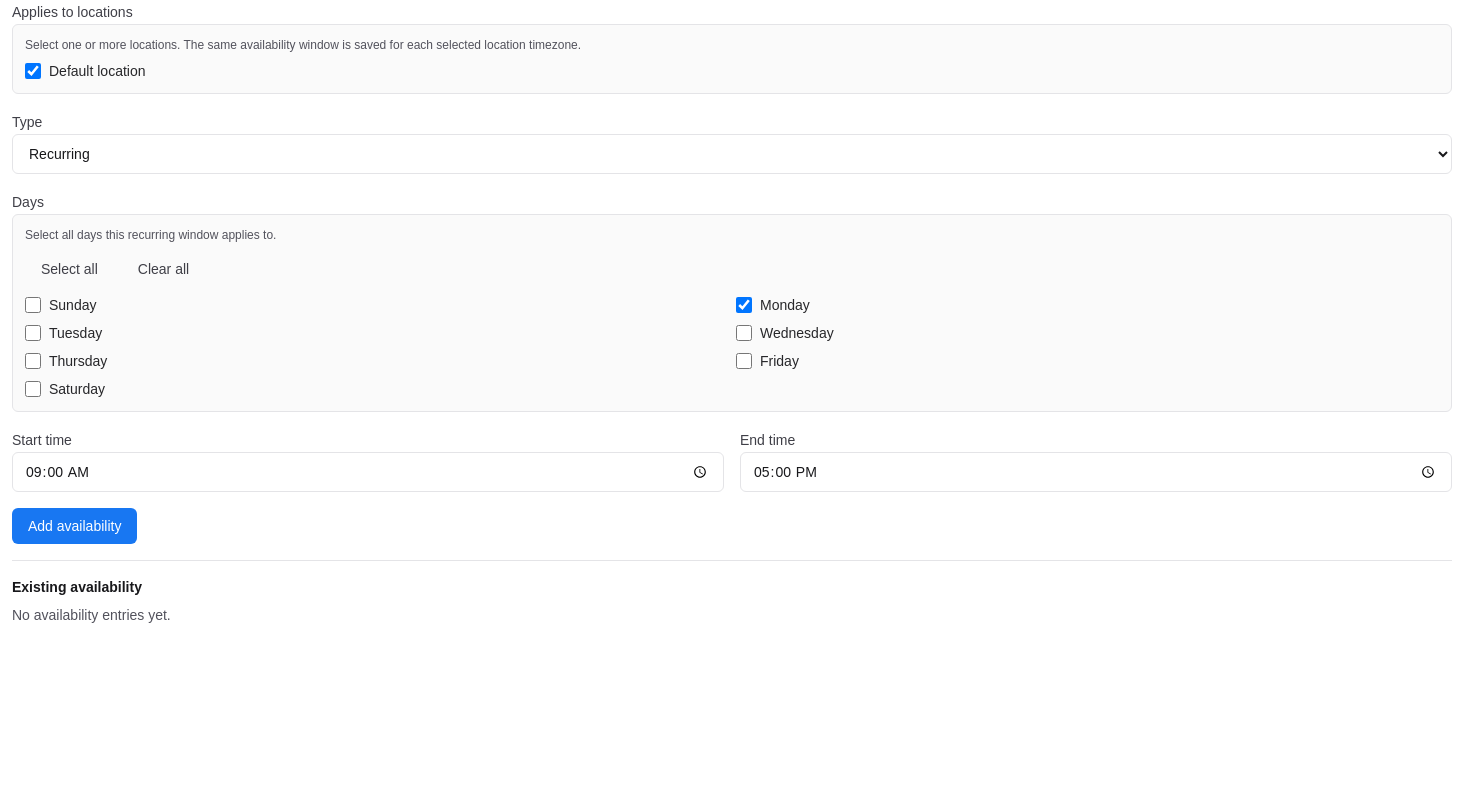
it: AvailabilityForm › shows error message when submit fails
Click the button "Add availability": (75, 526) [12,508,137,544]
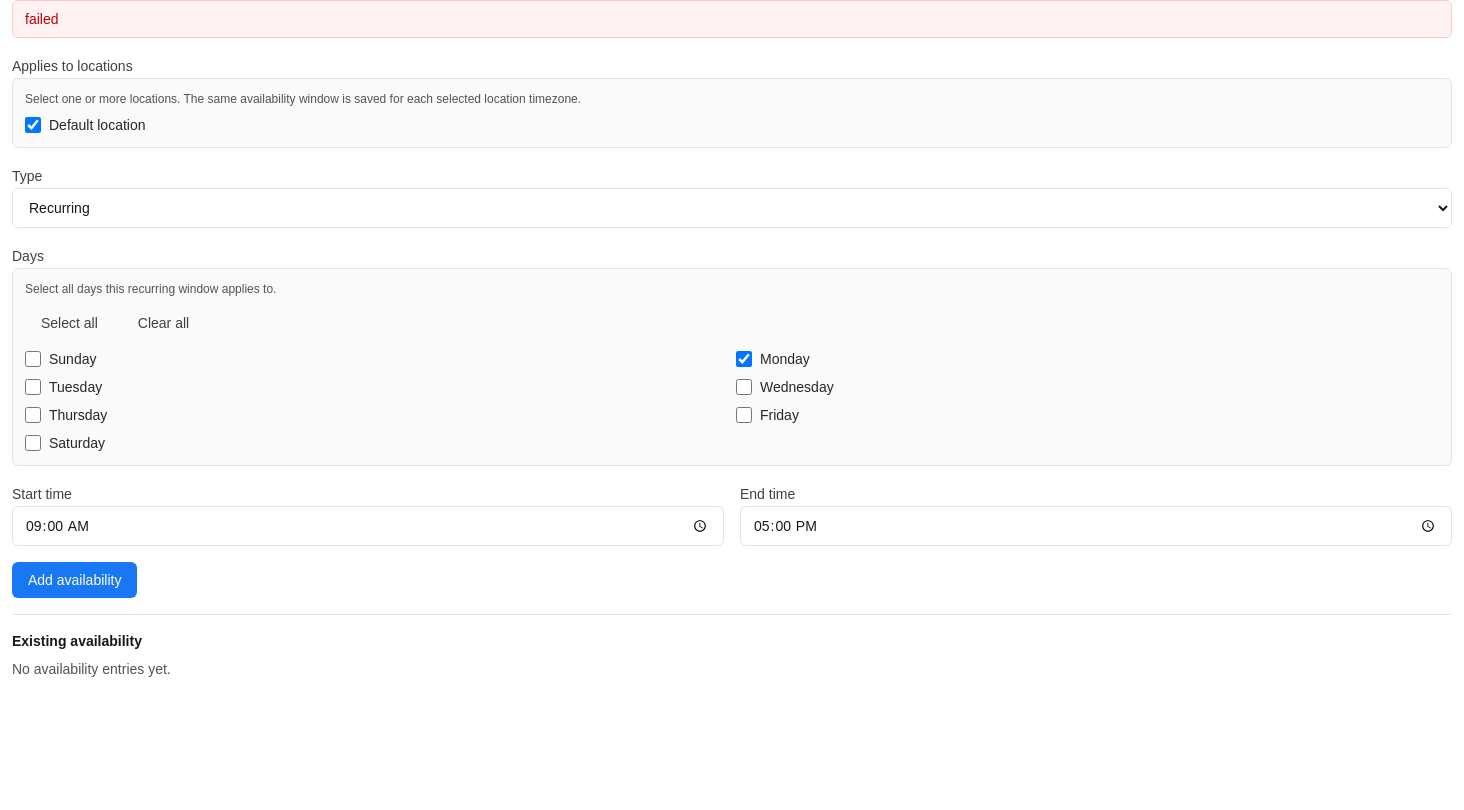
Check: the message reads "failed", box [25,11,58,27]
